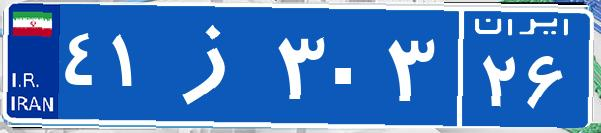0: (330, 28, 385, 110)
1: (110, 28, 158, 105)
2: (475, 38, 525, 113)
3: (385, 28, 445, 110), (273, 28, 330, 110)
4: (57, 26, 110, 107)
6: (525, 38, 570, 115)
ز: (158, 15, 273, 115)
